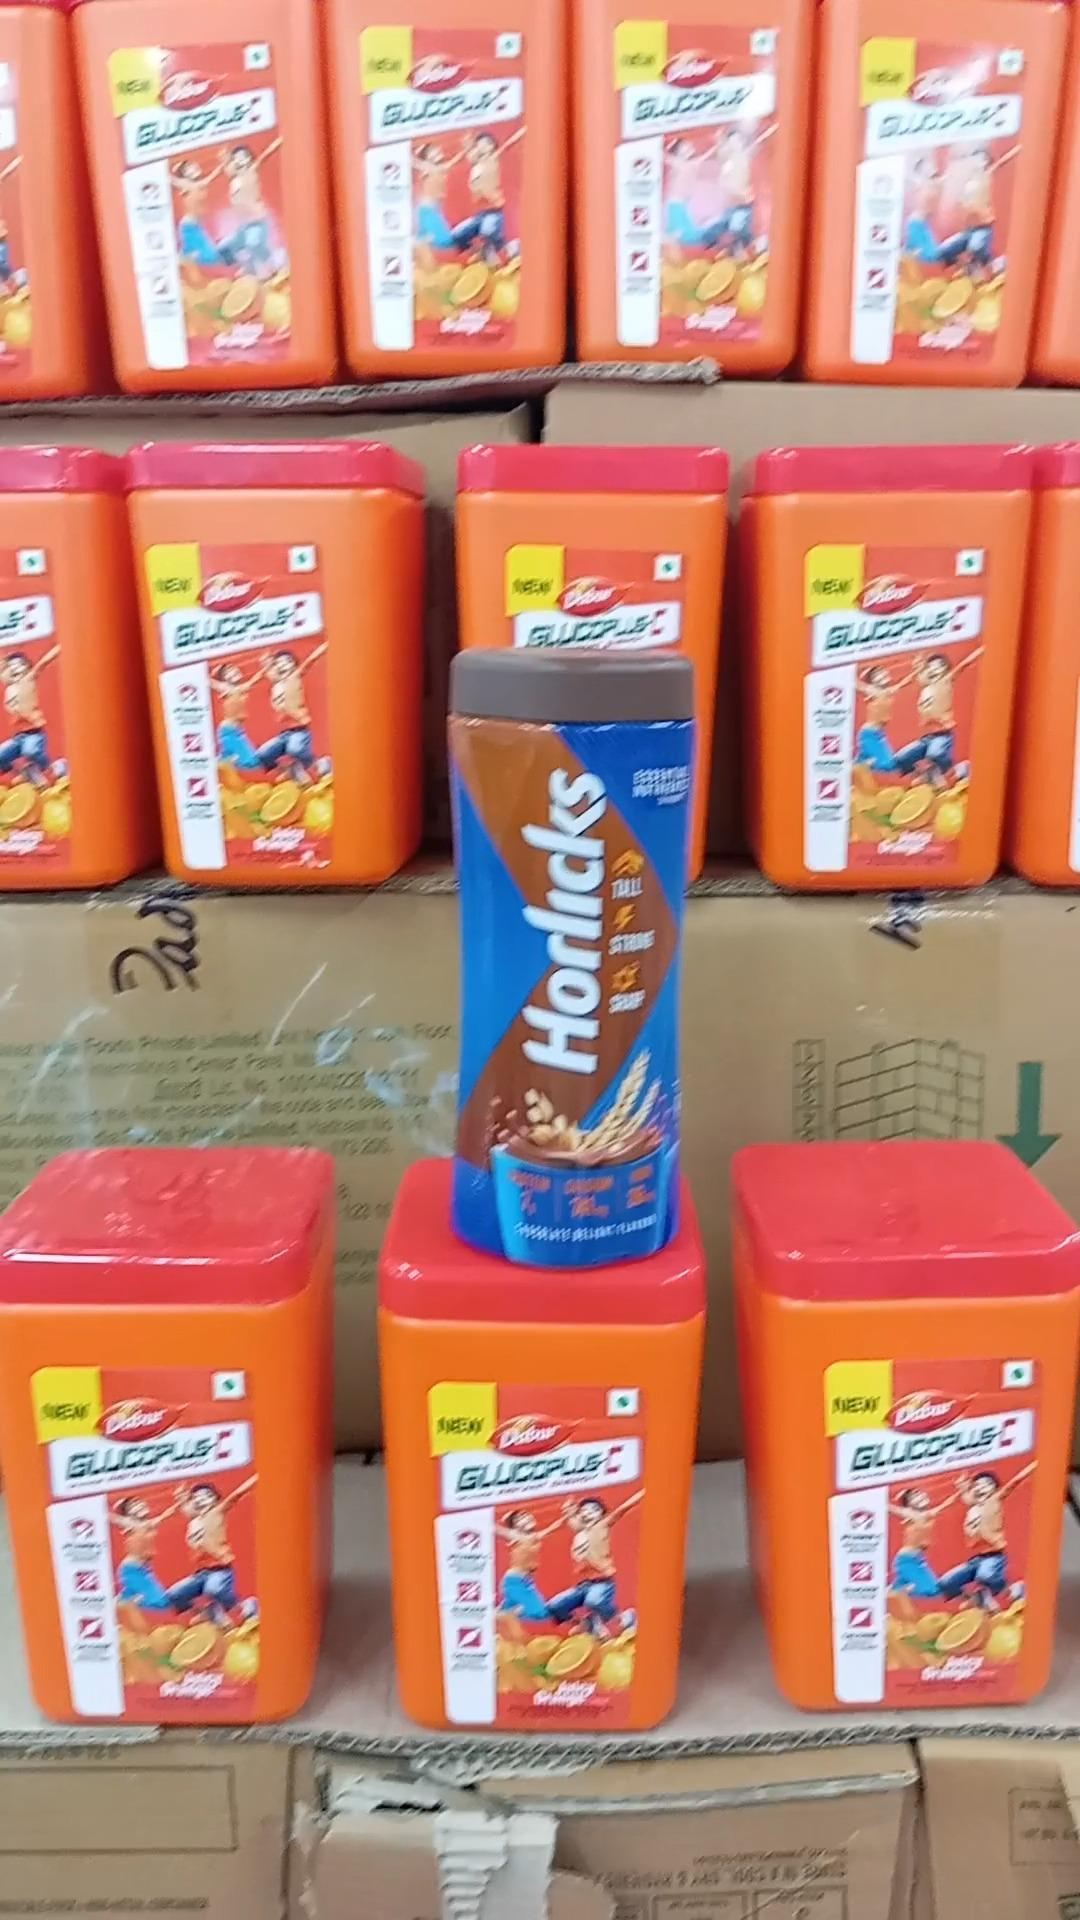HORLICK_CHOCOLATE_500_G_JAR: (451, 632, 696, 1267)
